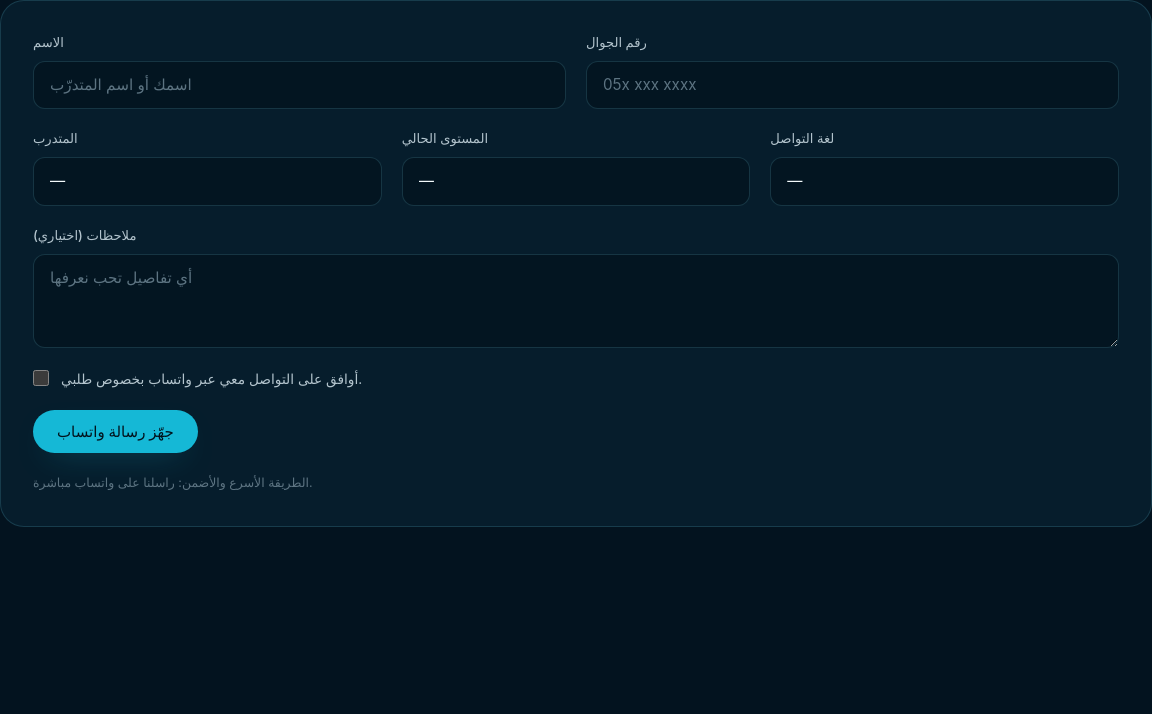
Scenario: TrialRequestForm validation › rejects a phone number that is too short
Type "سارة" into the field labelled "الاسم" at {"x": 300, "y": 85}, box [33, 61, 566, 110]
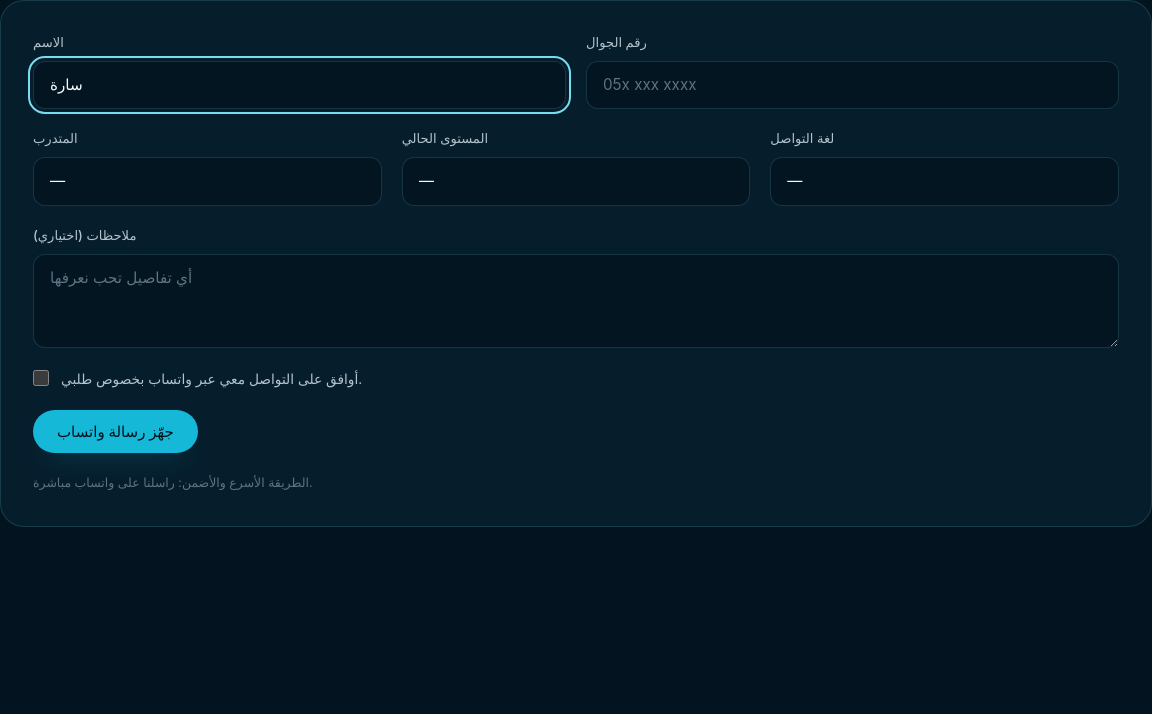
Type "123" into the field labelled "رقم الجوال" at {"x": 852, "y": 85}, box [586, 61, 1119, 110]
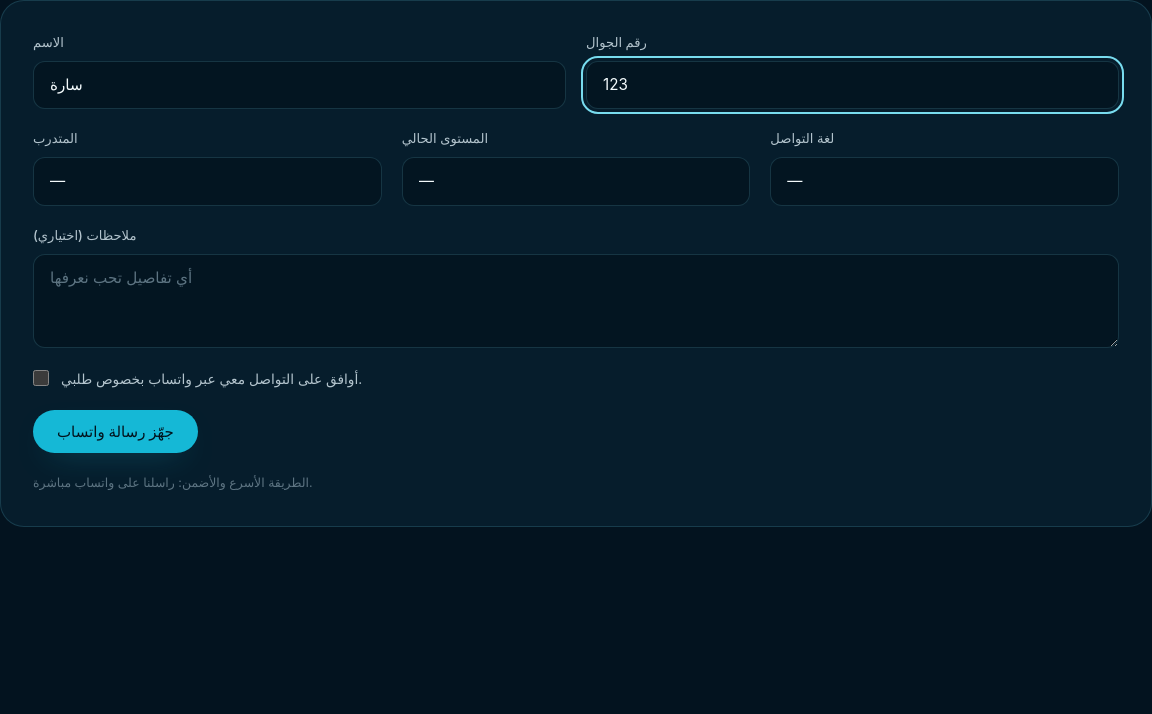
Click the button with test id "trial-form-submit" at {"x": 115, "y": 432}, box [33, 410, 198, 453]
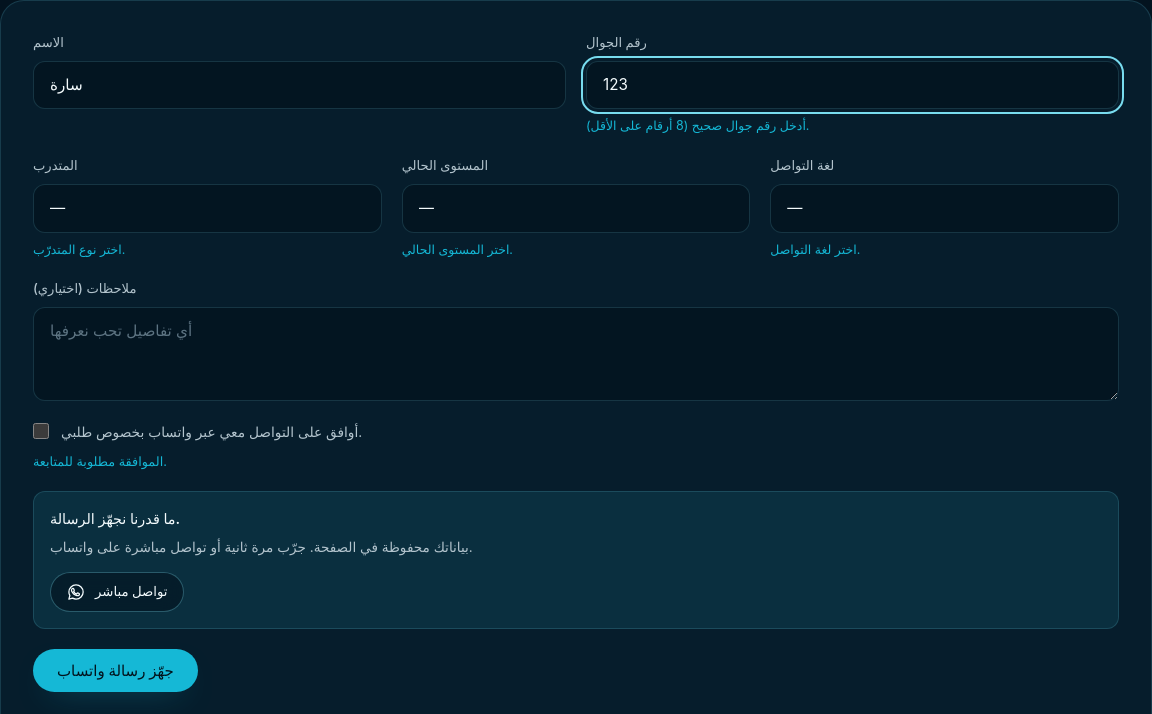
Expected: the text "أدخل رقم جوال صحيح (8 أرقام على الأقل)." is shown, [586, 118, 810, 134]
